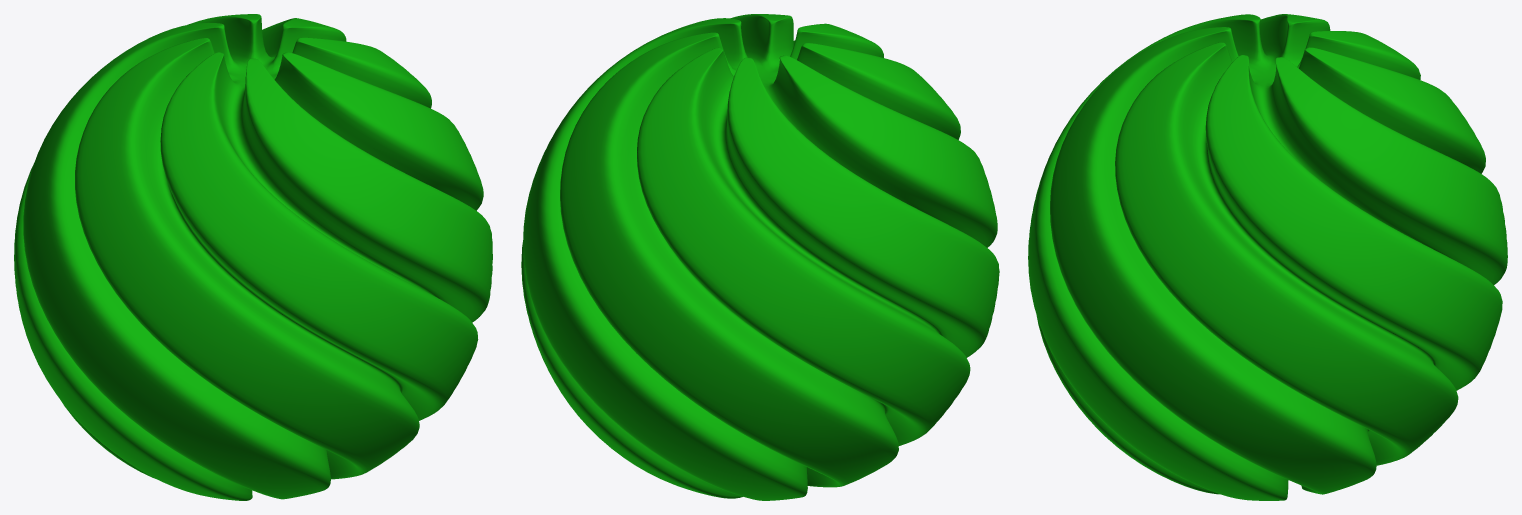
File: sphere_green_1.glb
3 renders of one model, left to right at view 1: azimuth 30°, elevation 25°; view 2: azimuth 150°, elevation 25°; view 3: azimuth 270°, elevation 25°, orthographic.
Visible parts, largest first — view 1: Sphere.016; view 2: Sphere.016; view 3: Sphere.016.
Boxes of the visible parts, x1=… form: Sphere.016: x1=14, y1=14, x2=492, y2=500; Sphere.016: x1=521, y1=14, x2=999, y2=500; Sphere.016: x1=1028, y1=14, x2=1507, y2=500.
Bounding box in the file's own units: 1.95 × 1.96 × 1.95.
